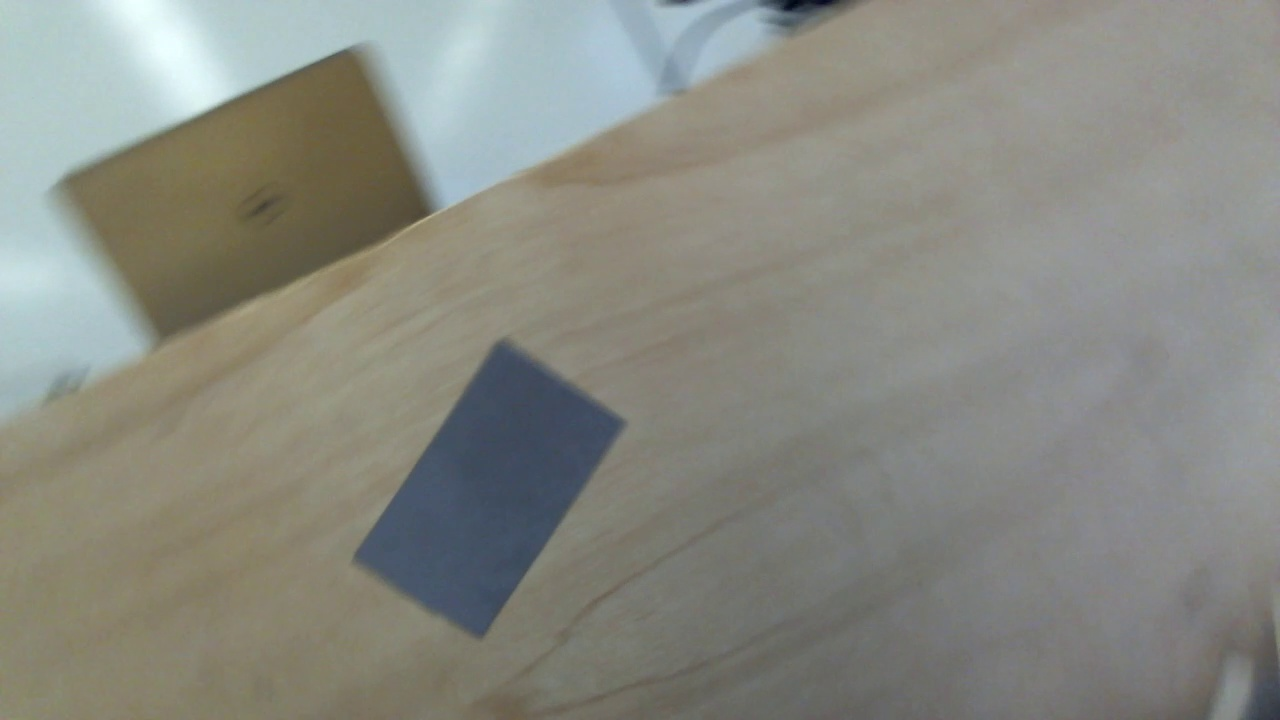Tape: (349, 333, 628, 643)
